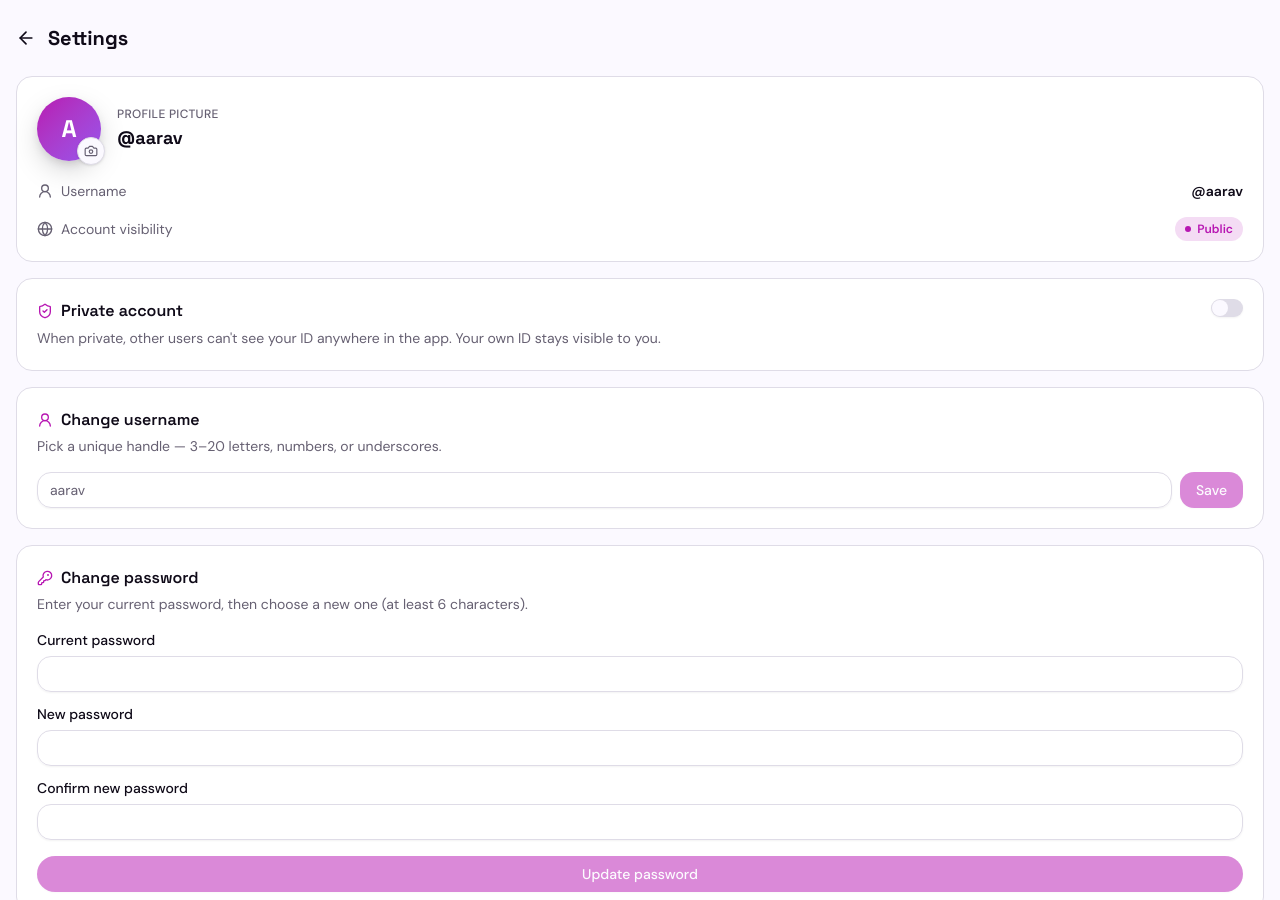
Scenario: SettingsPage › shows an error and saves nothing when passwords do not match
In the password field labelled "Current password": (640, 674) left=37, top=656, right=1243, bottom=692, type "oldpass"
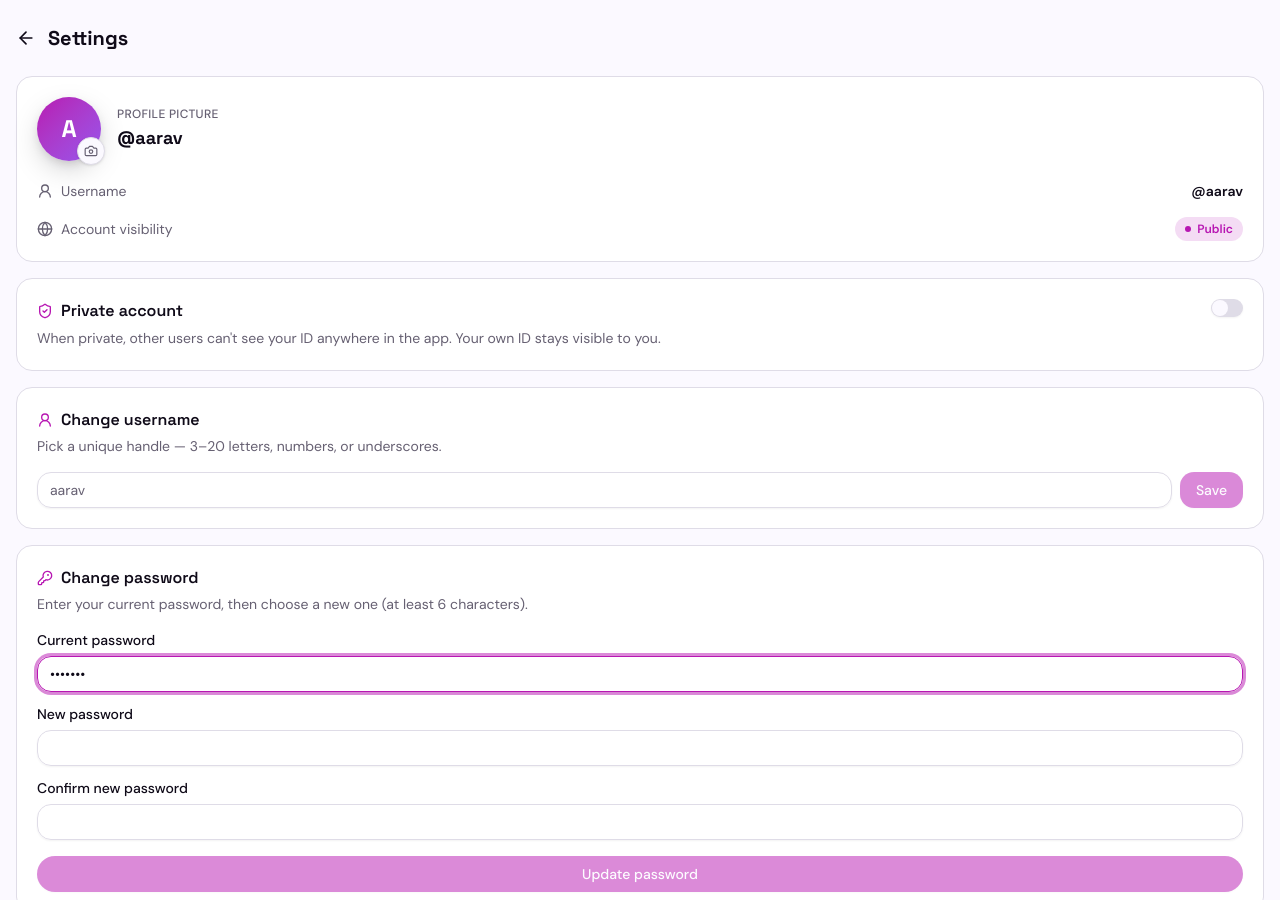
In the password field labelled "New password": (640, 748) left=37, top=730, right=1243, bottom=766, type "newpass1"
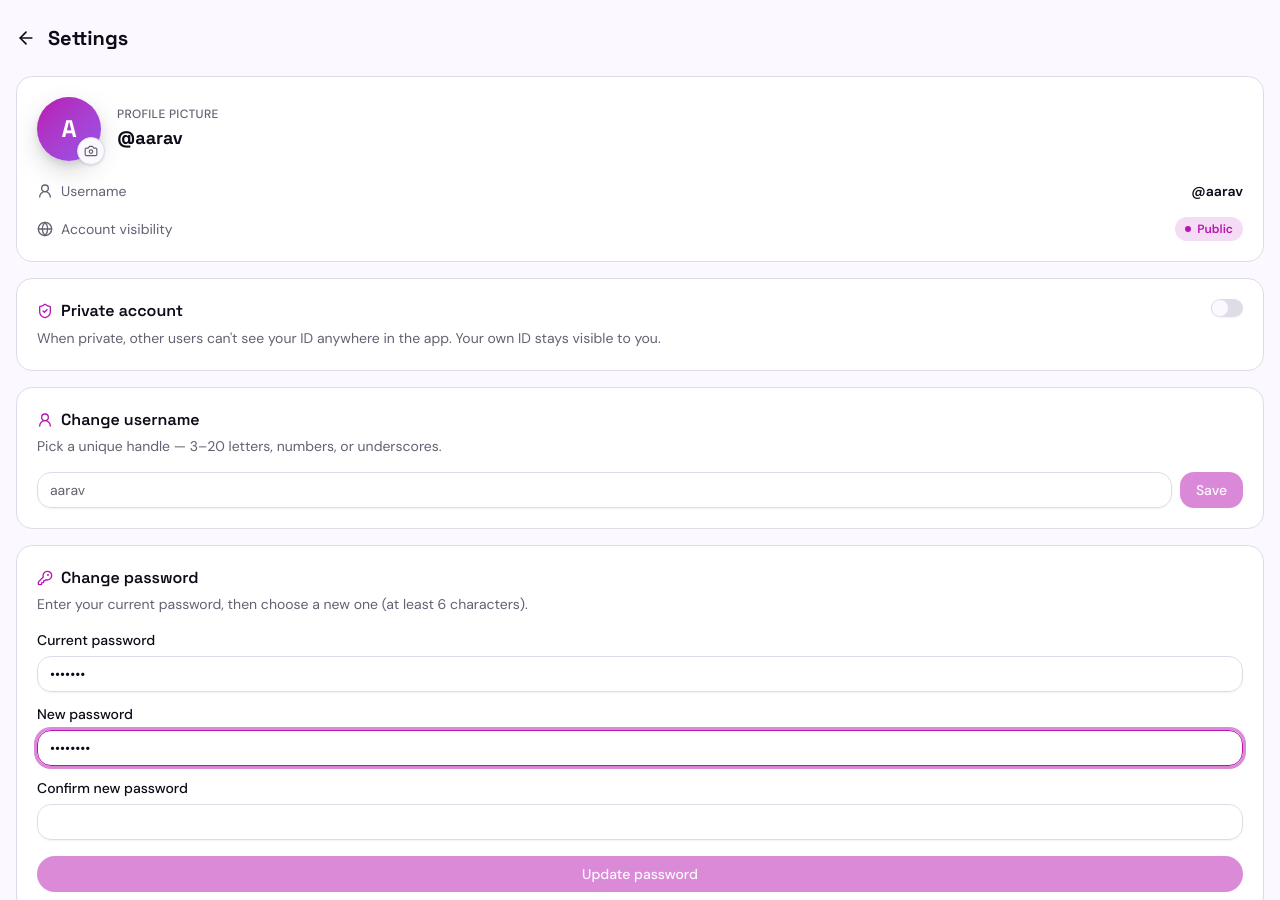
In the password field labelled "Confirm new password": (640, 822) left=37, top=804, right=1243, bottom=840, type "different"
(page scrolled)
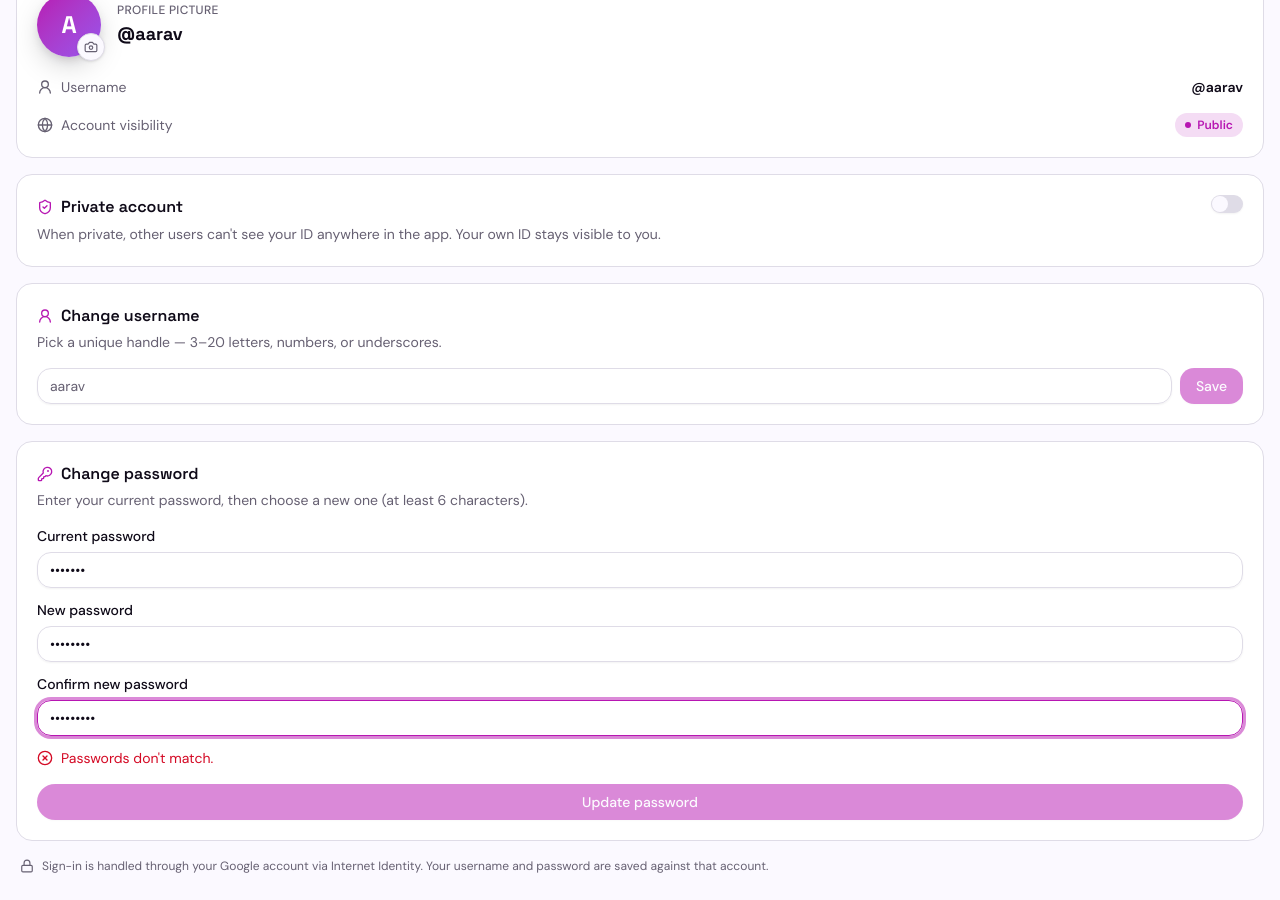
Expected: the button "Update password" is disabled, left=37, top=784, right=1243, bottom=820
Now the text "Passwords don't match." is shown, box left=37, top=749, right=213, bottom=767
